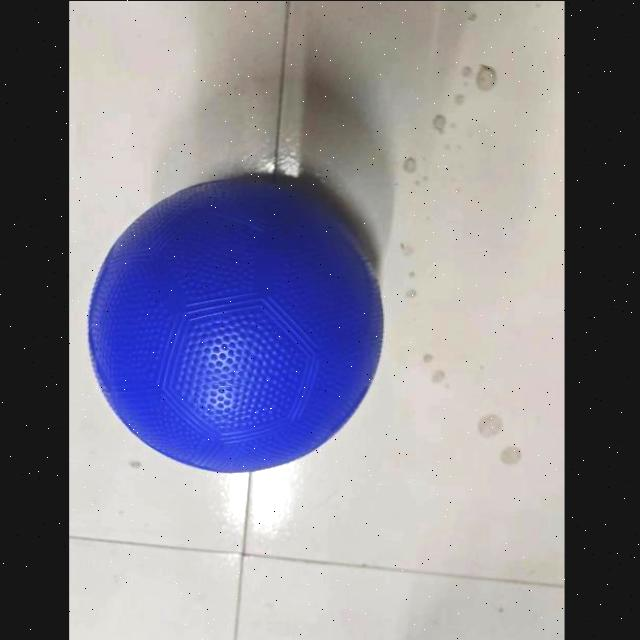B: (78, 172, 384, 480)
